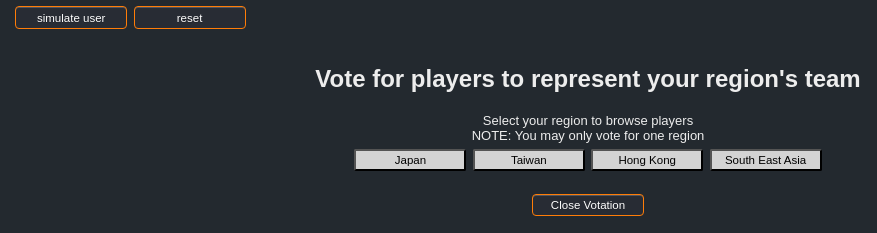
Scenario: admin › the results page › should render the results page when admin closes votation
This screenshot has width=877, height=233.
Click the button with id "adminCloseVote" at point(588, 205), box [532,194,644,216]
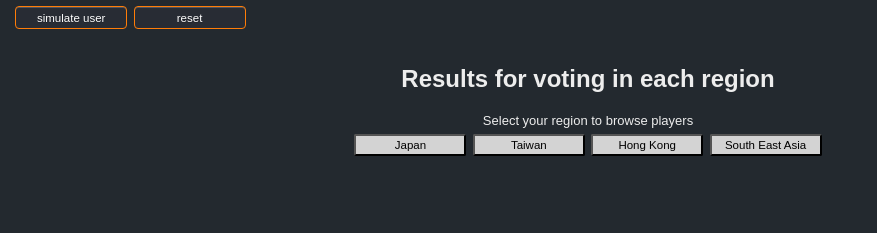
Now the text "Results for voting in each region" is shown, box [401,65,775,92]
